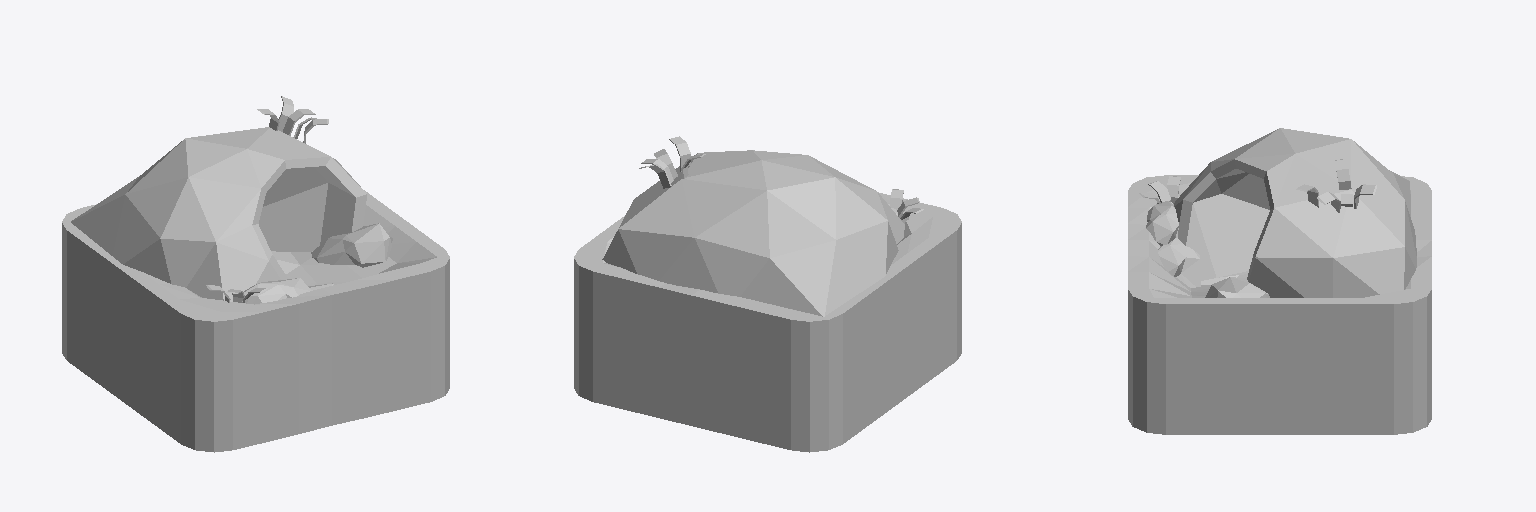
Rendered from tile_cave.obj.
3 renders of one model, left to right at view 1: azimuth 30°, elevation 25°; view 2: azimuth 150°, elevation 25°; view 3: azimuth 270°, elevation 25°, orthographic.
Parts seen in each view (by area): view 1: Plane.002; view 2: Plane.002; view 3: Plane.002.
Part boxes in pixels (x1,y1,x2,y2): Plane.002: (62, 96, 449, 452); Plane.002: (574, 136, 961, 452); Plane.002: (1128, 128, 1431, 434).
Bounding box in the file's own units: 2 × 1.66 × 2.